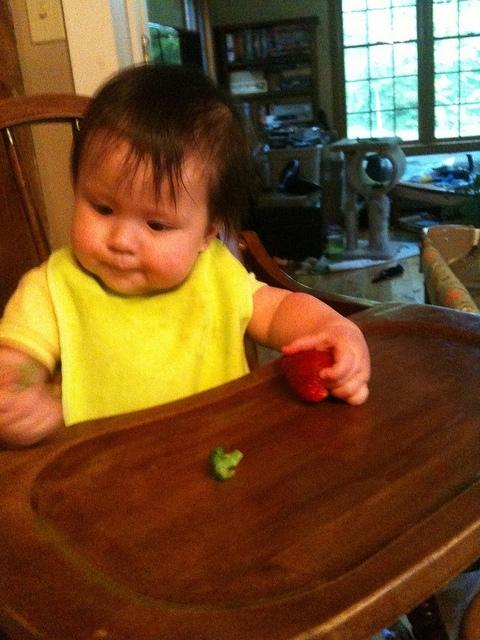broccoli: (208, 448, 244, 482)
